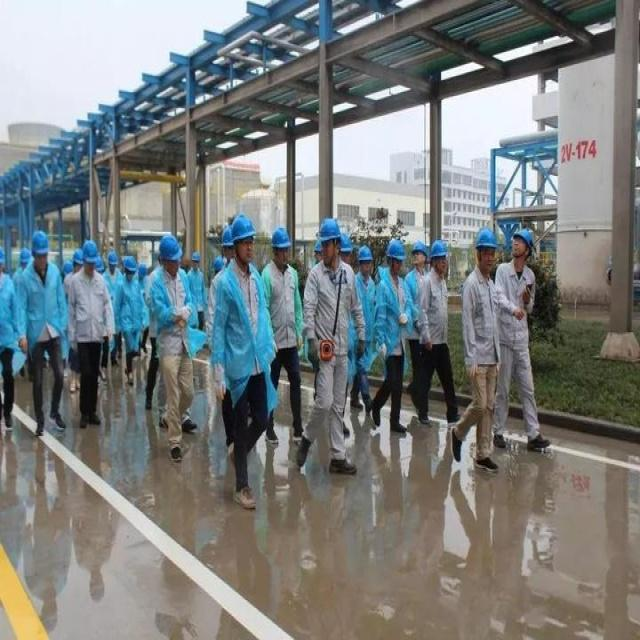helmet: (229, 284, 258, 355), (472, 303, 501, 367), (158, 309, 185, 367), (318, 291, 341, 356), (269, 299, 292, 361), (510, 297, 533, 355), (219, 292, 241, 352), (31, 307, 52, 369), (429, 313, 451, 367), (385, 316, 405, 369), (81, 319, 101, 368), (354, 321, 374, 364), (409, 319, 428, 360), (336, 307, 354, 348), (68, 325, 84, 367), (312, 319, 327, 356), (123, 343, 138, 376), (208, 340, 224, 368), (19, 326, 32, 358), (106, 330, 118, 362), (190, 333, 202, 364)
